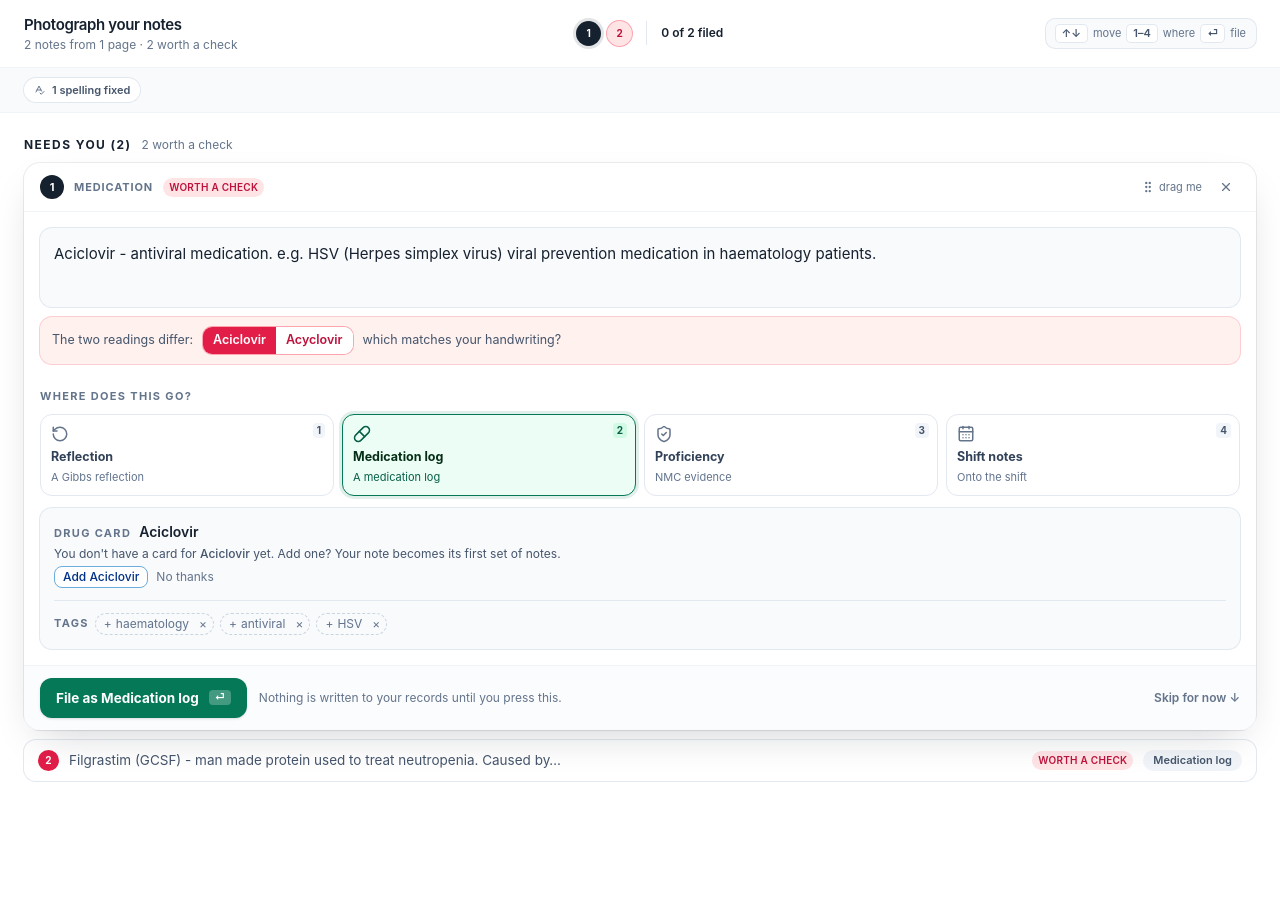
Test case: ReviewPanel — the meta strip › shows sanitiser corrections and states the boundary they respect (P24)
The width and height of the screenshot is (1280, 900).
Click the button "1 spelling fixed". click: (82, 90)
box: [24, 78, 140, 102]
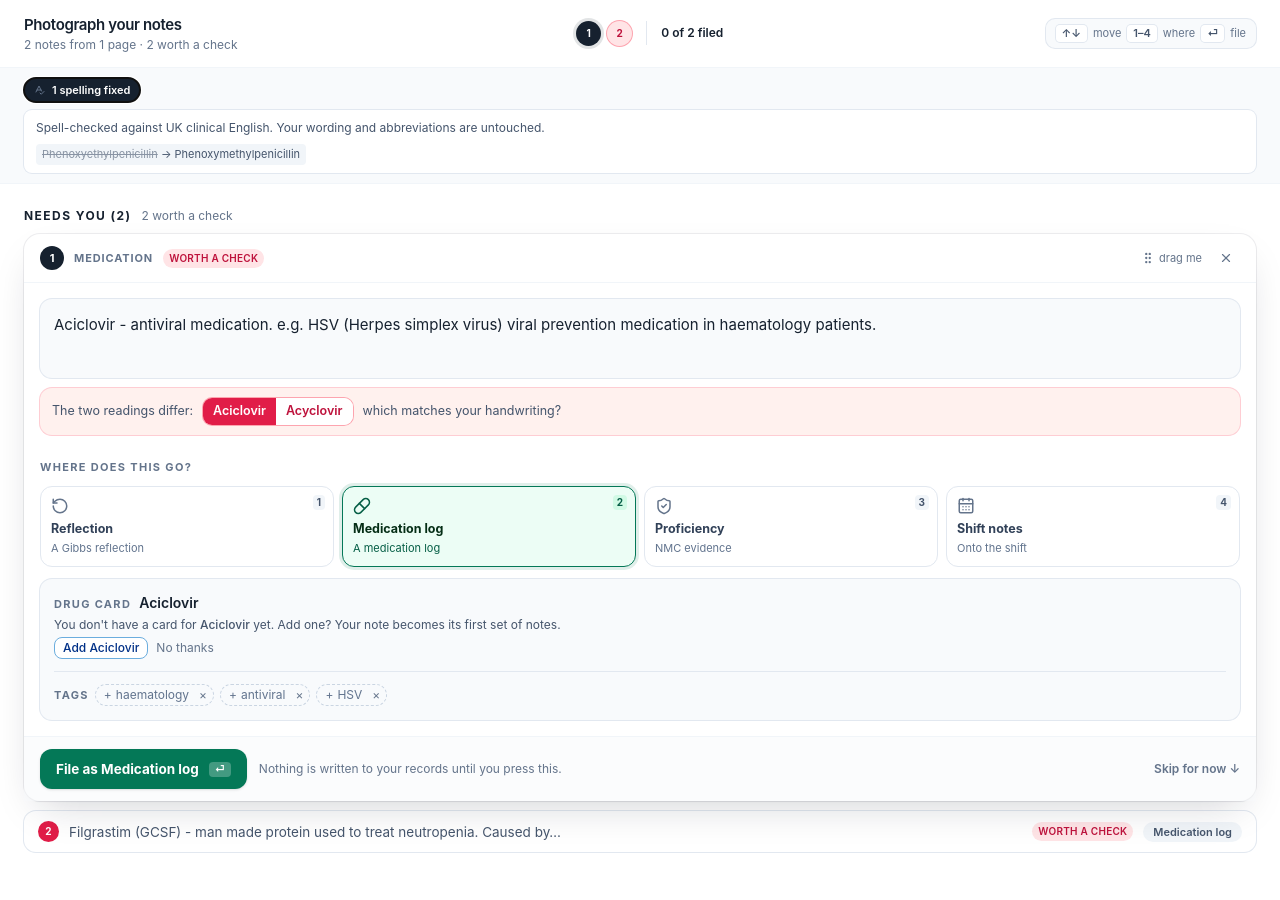
Expected: the text "Phenoxyethylpenicillin" is shown, [42, 146, 158, 160]
Expected: the text "wording and abbreviations are untouched" is shown, [36, 120, 545, 135]
